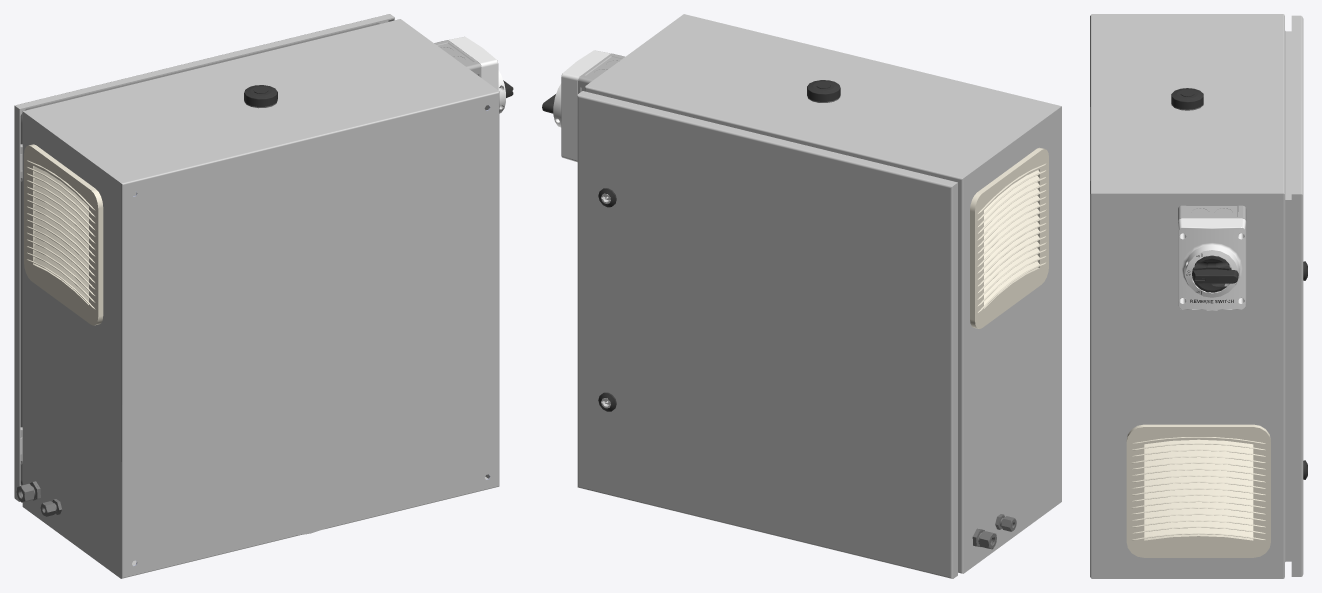
File: 7Low_CME.fbx
3 views of the same model, side by side, from view 1: azimuth 30°, elevation 25°; view 2: azimuth 150°, elevation 25°; view 3: azimuth 270°, elevation 25° (orthographic). The views are drawn at different scales.
Visible parts, largest first — view 1: 7CME_Low; view 2: 7CME_Low; view 3: 7CME_Low.
Part boxes in pixels (<box>): 7CME_Low: <box>14,14,513,578</box>; 7CME_Low: <box>542,14,1061,578</box>; 7CME_Low: <box>1090,14,1307,578</box>.
Bounding box in the file's own units: 732 × 616 × 308.
